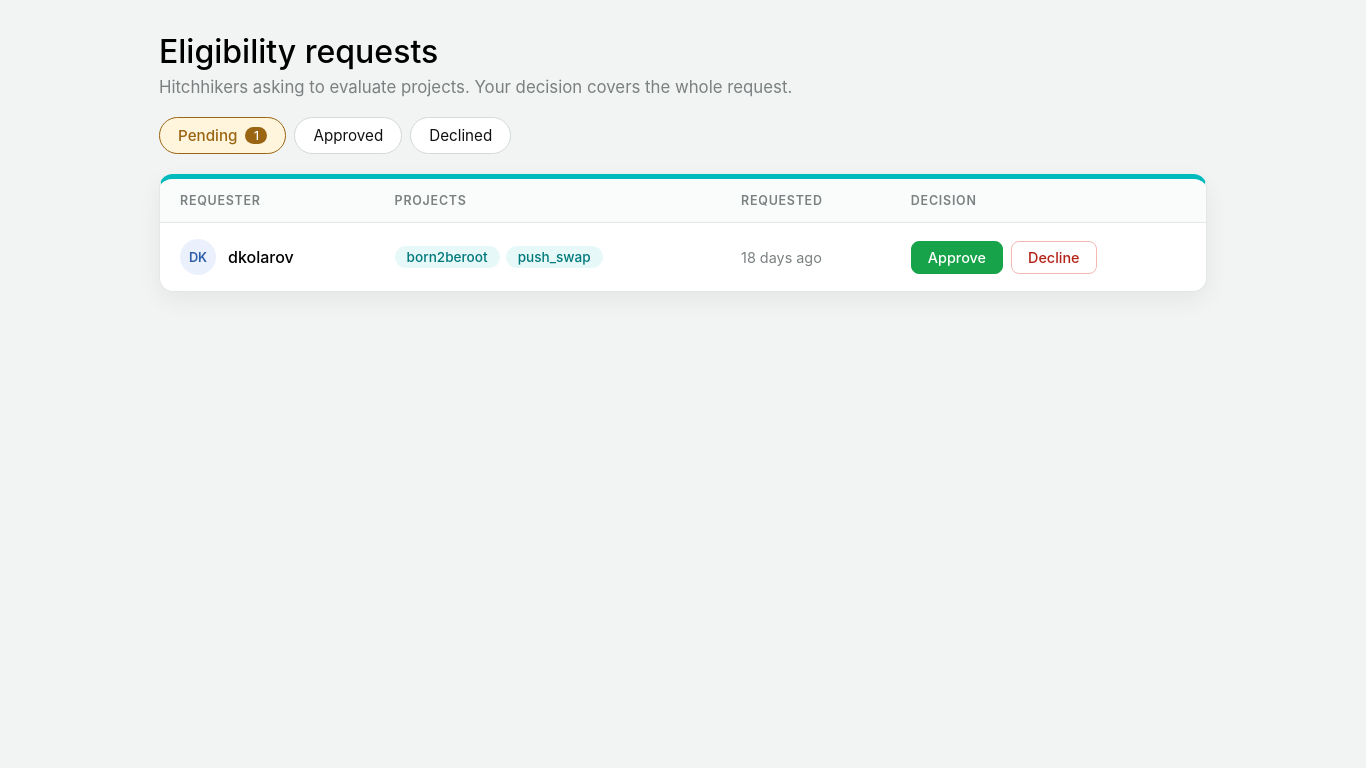
Scenario: EligibilityReviewPage › declines without a note
Click the button with aria-label "Decline dkolarov's request" at (1054, 257), box [1011,240,1096,274]
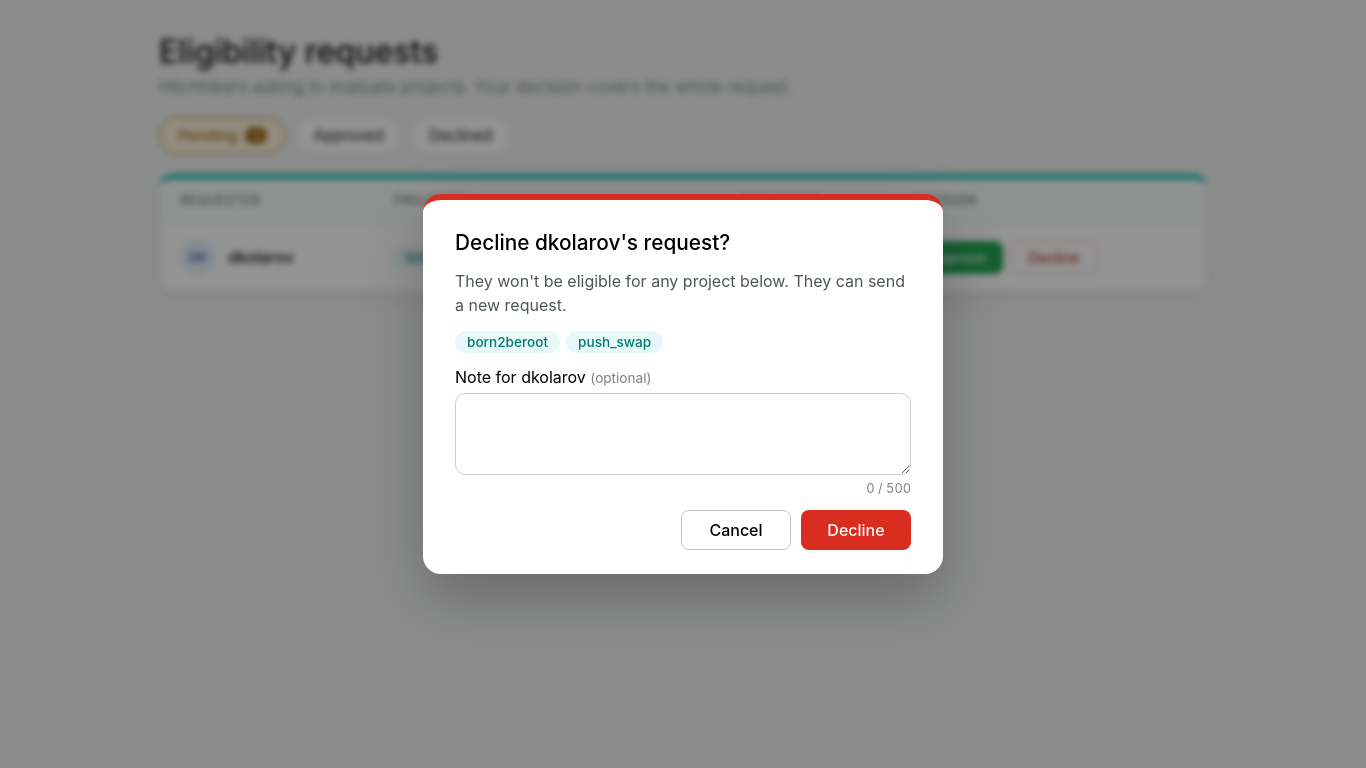
Click the button "Decline" at (856, 530), box [801,510,911,550]
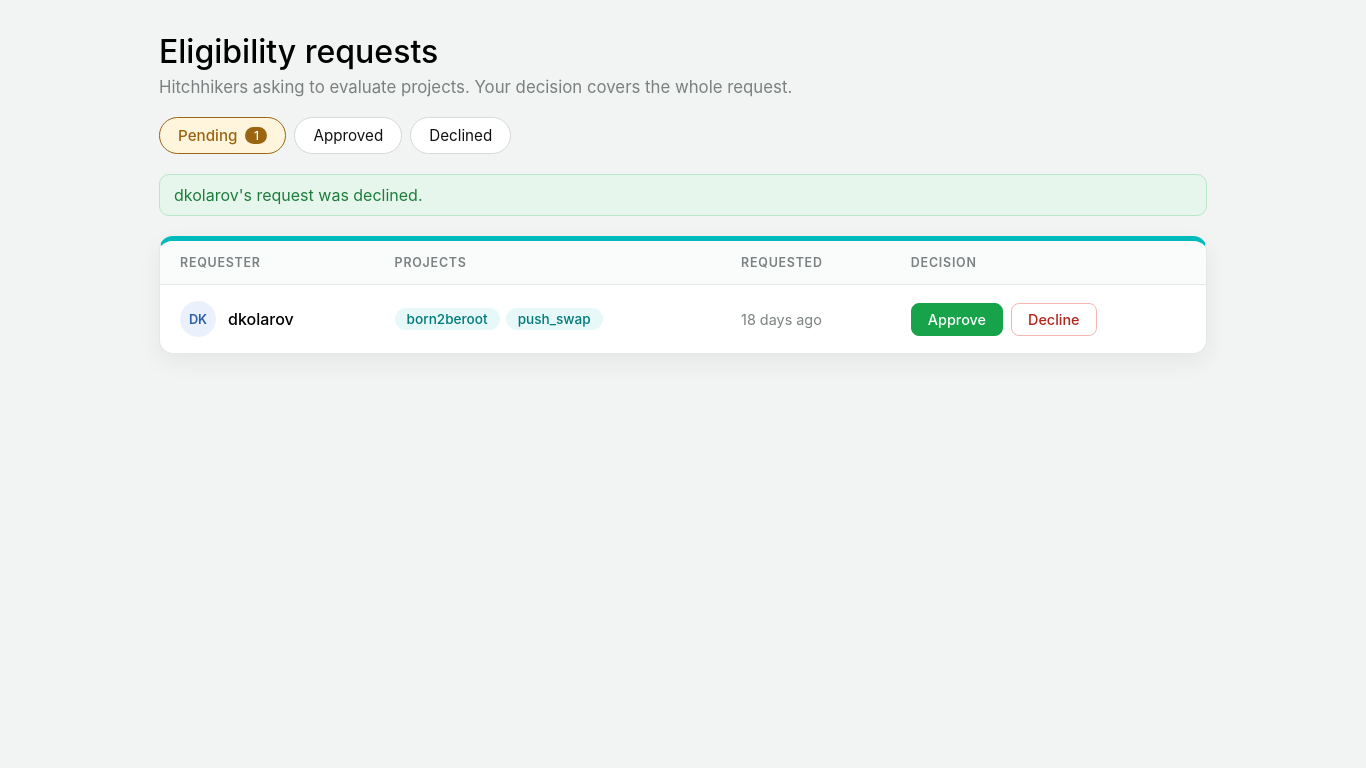
Expected: the message "dkolarov's request was declined." is shown, [159,174,1207,216]
